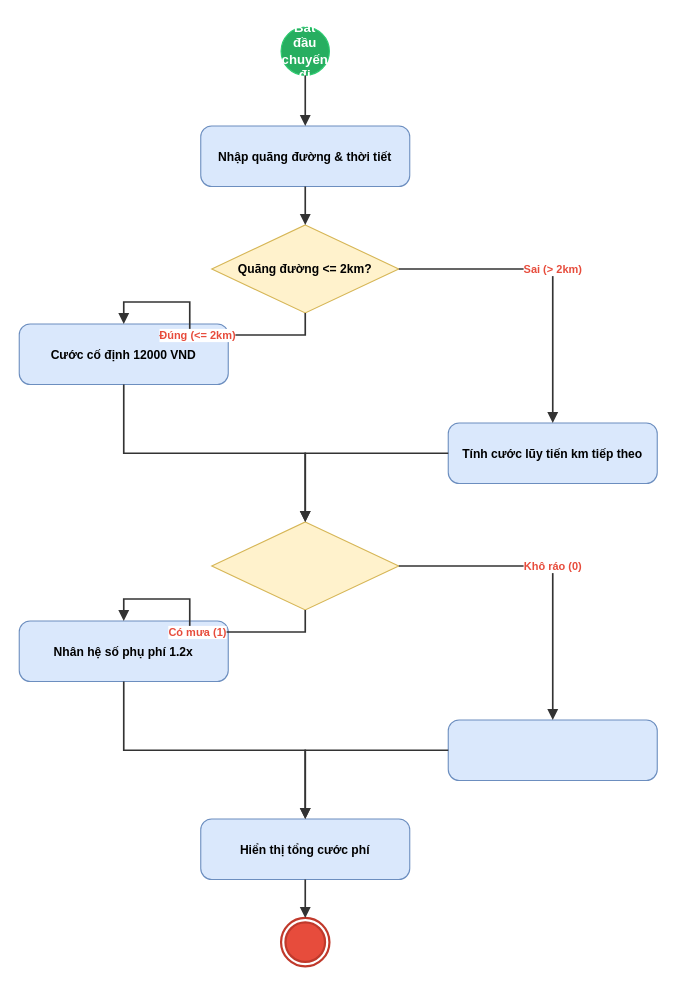
This 677x986 diagram has some shape labels left out. Here are the shapes that lost their labels. From the top down, the box of each, then its label:
(211, 521, 399, 610): Trời có mưa? (is_raining == 1)
(447, 719, 657, 780): Giữ nguyên cước phí
(279, 916, 330, 967): Kết thúc
